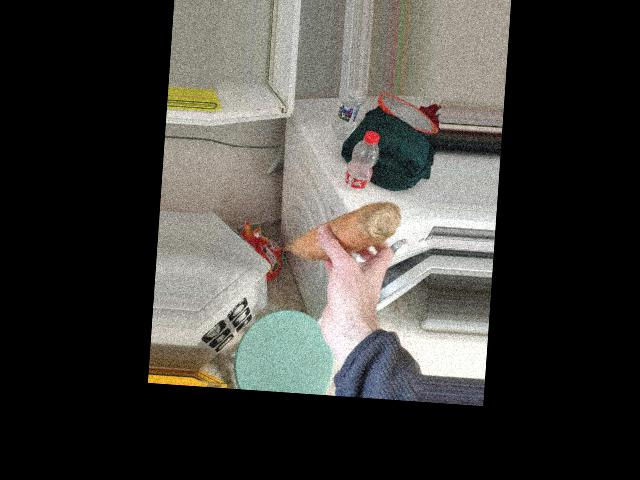sweet_potato: (292, 191, 395, 274)
